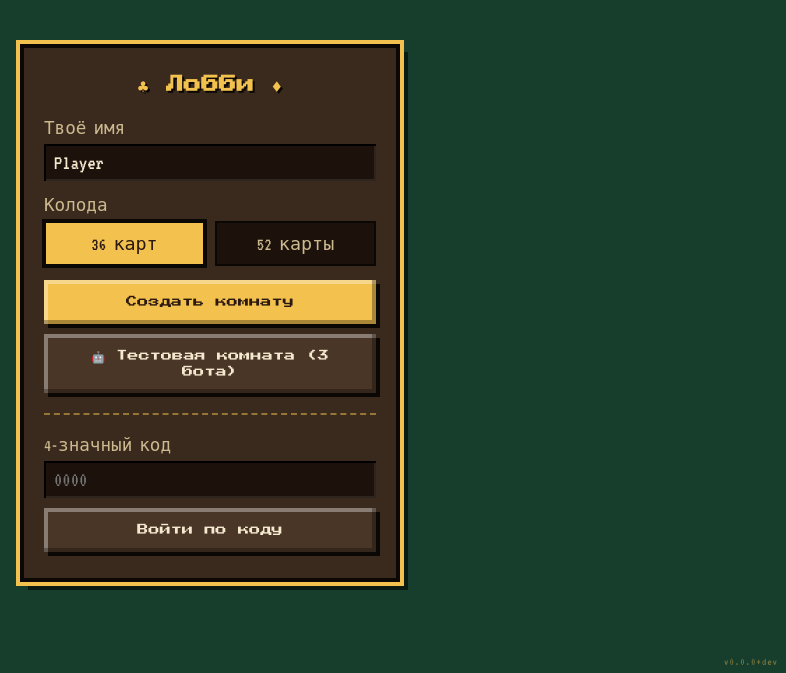
Test: Lobby — тестовая комната с ботами › показывает ошибку, если комната не создалась
This screenshot has width=786, height=673.
Click the button "🤖 Тестовая комната (3 бота)" at coordinates (210, 364), box x1=44 y1=334 x2=376 y2=393
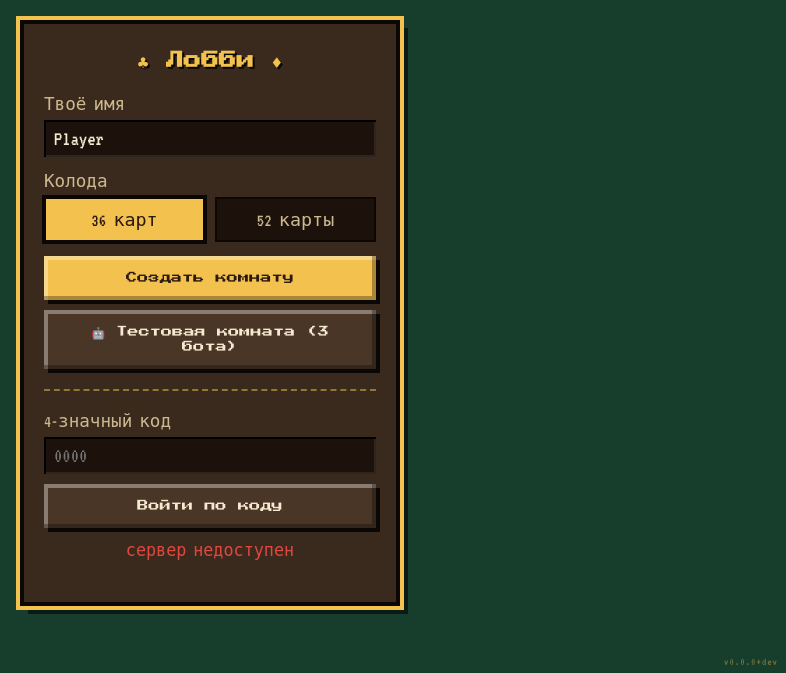
Expected: the text "сервер недоступен" is shown, x1=126 y1=542 x2=294 y2=558
